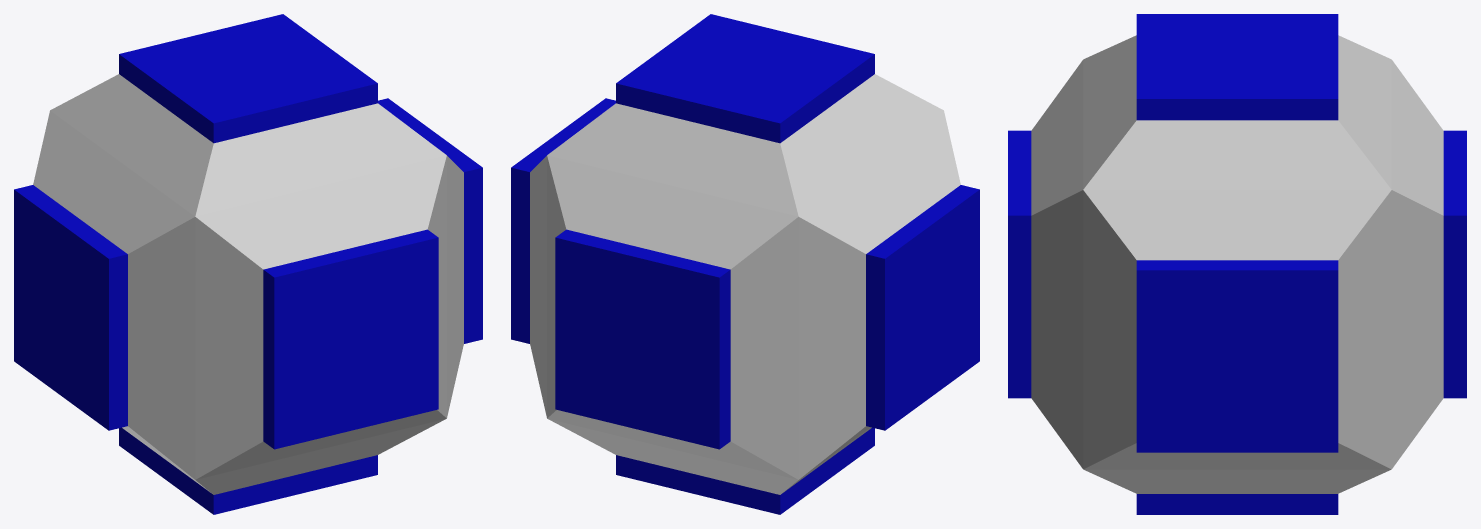
File: Hub.obj
The picture shows the model from 3 angles, left to right: view 1: azimuth 30°, elevation 25°; view 2: azimuth 150°, elevation 25°; view 3: azimuth 270°, elevation 25°; orthographic projection. The views are drawn at different scales.
Visible parts, largest first — view 1: Hub_Cube.002; view 2: Hub_Cube.002; view 3: Hub_Cube.002.
Part boxes in pixels (x1,y1,x2,y2): Hub_Cube.002: (14,14,482,514); Hub_Cube.002: (511,14,979,514); Hub_Cube.002: (1008,14,1466,514).
Size of the model in its own units: 1 by 1 by 1.
